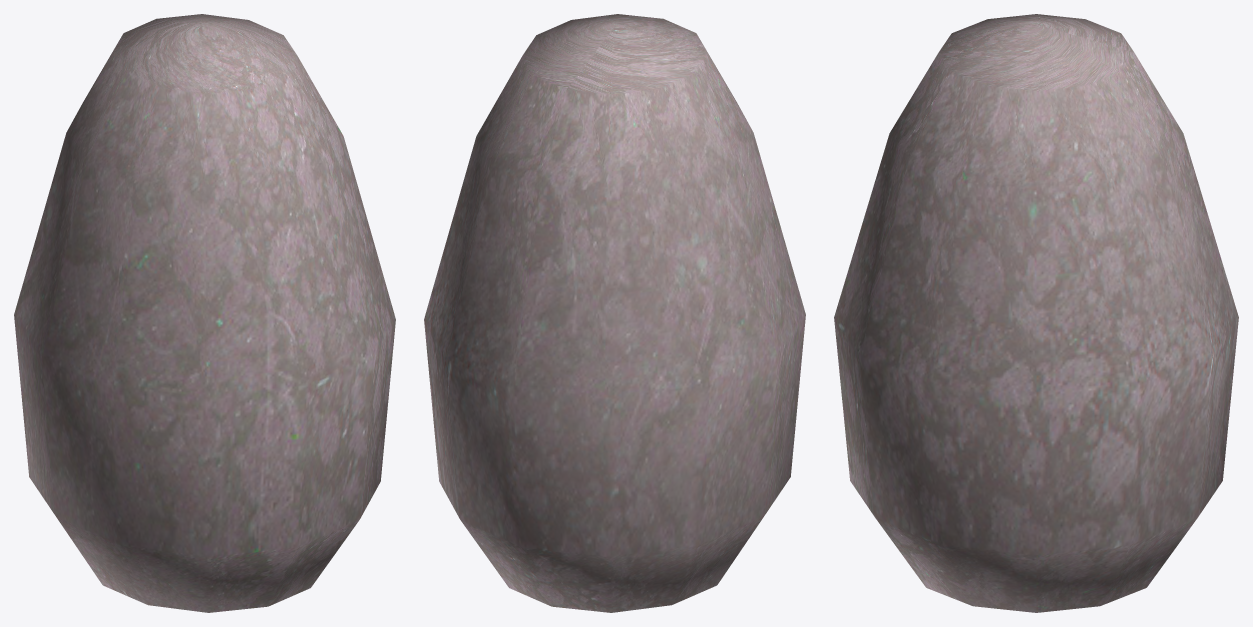
Rendered from Dino_Egg_05.dae.
3 renders of one model, left to right at view 1: azimuth 30°, elevation 25°; view 2: azimuth 150°, elevation 25°; view 3: azimuth 270°, elevation 25°, orthographic.
Visible parts, largest first — view 1: DinoEggFive300; view 2: DinoEggFive300; view 3: DinoEggFive300.
Part boxes in pixels (bbox=[...]): DinoEggFive300: bbox=[14, 14, 395, 612]; DinoEggFive300: bbox=[424, 14, 805, 612]; DinoEggFive300: bbox=[834, 14, 1238, 612].
Size of what is drawn, in the model's own units: 0.2294 by 0.2455 by 0.3847.
